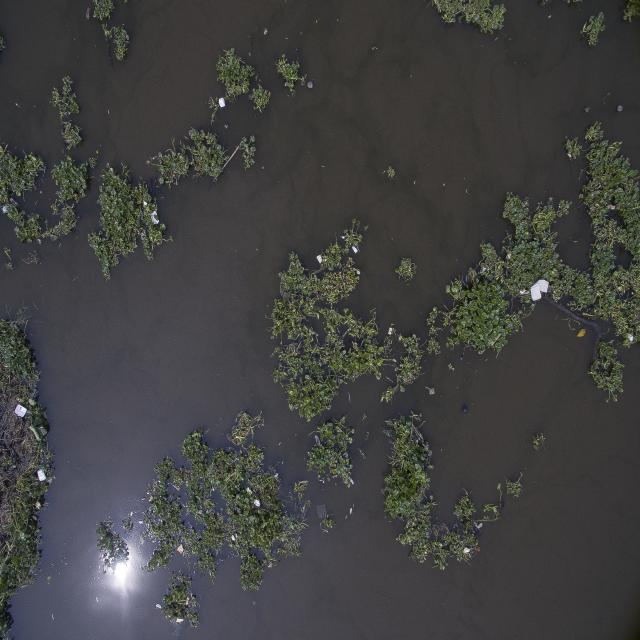debris: (530, 278, 548, 301), (83, 4, 94, 21), (15, 404, 28, 418), (36, 468, 48, 482), (0, 202, 10, 218), (151, 210, 159, 228), (175, 545, 188, 556), (346, 474, 355, 486), (33, 498, 42, 510), (218, 96, 226, 109), (350, 244, 360, 254), (314, 254, 324, 264), (474, 520, 484, 530), (479, 263, 488, 274), (183, 592, 190, 606), (306, 78, 314, 90), (427, 386, 437, 395), (626, 331, 634, 342), (142, 200, 150, 210), (213, 141, 221, 151), (463, 544, 471, 554), (348, 505, 355, 516), (294, 43, 300, 55), (254, 499, 262, 507), (175, 618, 183, 626), (246, 487, 253, 496), (230, 532, 236, 542), (30, 514, 40, 520), (355, 270, 362, 277), (340, 234, 346, 242), (156, 603, 162, 610), (388, 327, 393, 335), (211, 486, 216, 493)
plastic: (316, 502, 326, 518), (38, 448, 48, 464), (312, 433, 321, 446), (460, 406, 470, 416), (224, 122, 232, 129), (459, 355, 465, 364)
